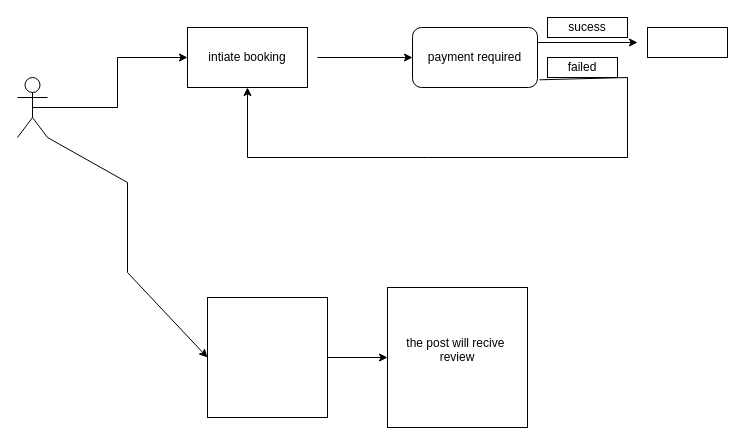
Some shapes in this 745 by 445 pixel diagram are drawn without their labels. Each missing label, with the centre of its shape:
"Actor" belongs at [32,107].
"booked sucessfully" belongs at [687,42].
"post a property with detail" belongs at [267,357].
